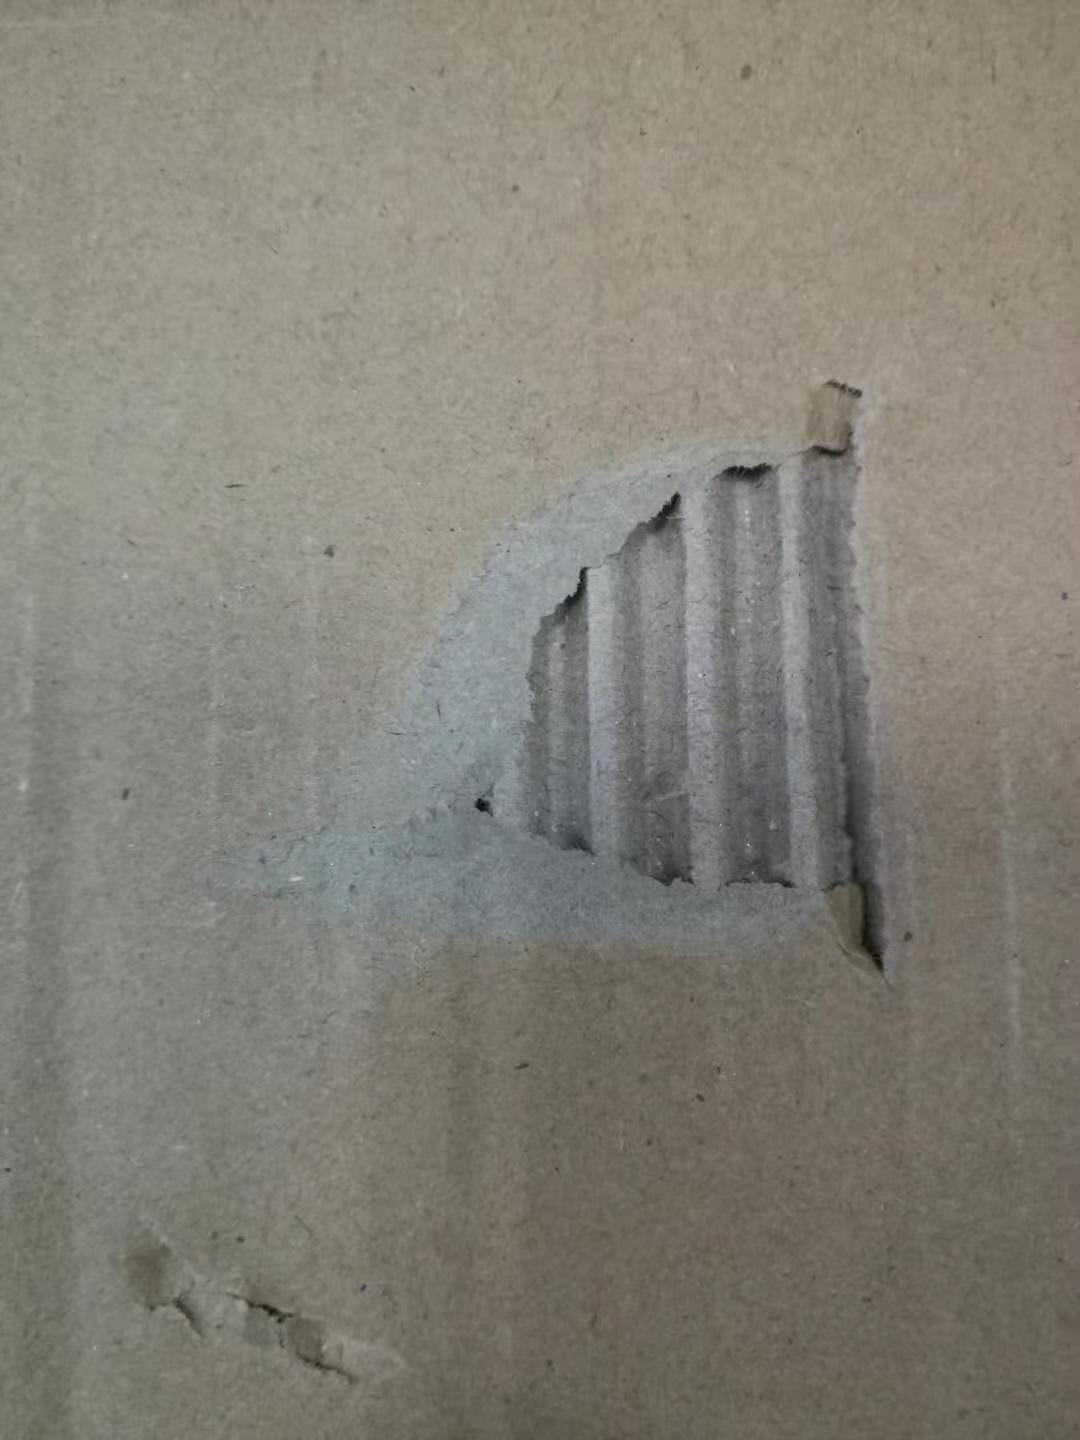defect: (186, 328, 979, 1013), (88, 1184, 452, 1412)
